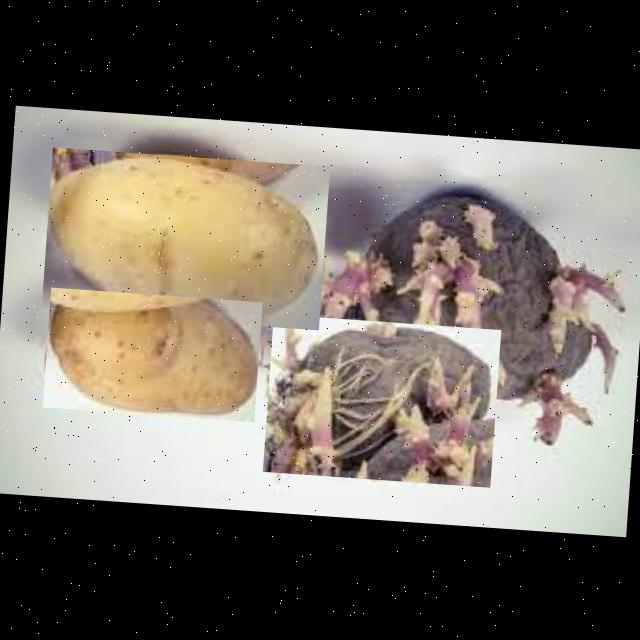Potato: (40, 146, 329, 329), (42, 286, 262, 421)
Sprouted potato: (311, 185, 628, 448), (262, 313, 499, 487)
